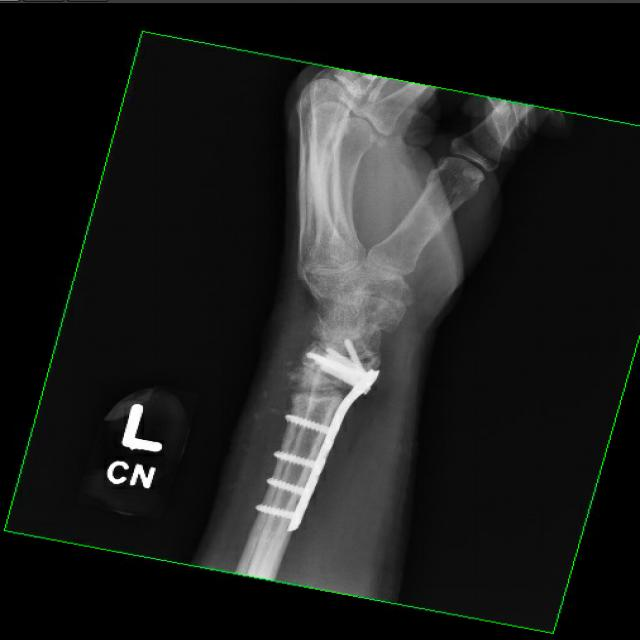x-ray: (247, 334, 391, 536)
